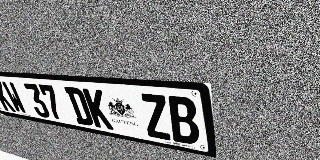3: (23, 83, 51, 119)
7: (37, 84, 66, 121)
B: (166, 95, 201, 146)
D: (64, 87, 95, 127)
K: (82, 88, 114, 130), (0, 80, 16, 112)
W: (1, 81, 28, 114)
Z: (139, 93, 173, 141)
